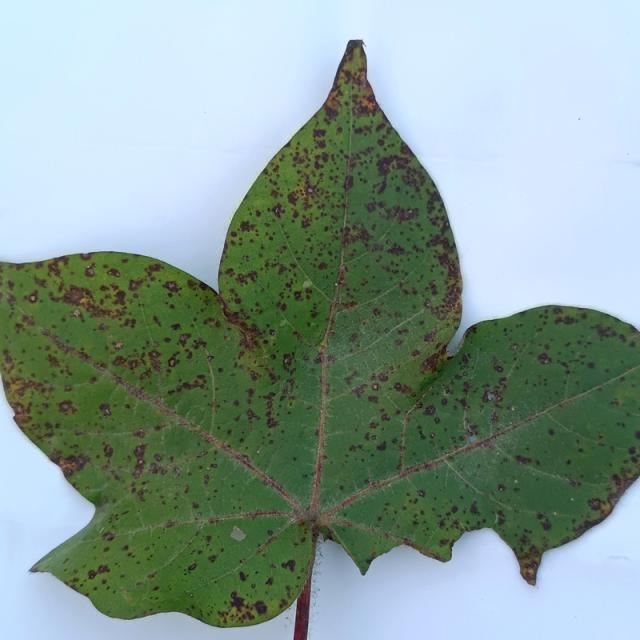Bacterial_Blight: (551, 471, 636, 560), (423, 220, 461, 319), (598, 465, 639, 519), (201, 331, 218, 423), (251, 524, 294, 556), (112, 348, 156, 377), (448, 323, 483, 354), (612, 377, 640, 411), (375, 153, 405, 182), (409, 541, 450, 562), (228, 509, 296, 521), (55, 454, 88, 477), (173, 375, 206, 394), (343, 224, 371, 246), (290, 183, 319, 204), (433, 340, 453, 370), (89, 498, 112, 524), (310, 508, 336, 530), (421, 350, 444, 374), (63, 286, 89, 306), (95, 399, 115, 420), (593, 324, 617, 340), (88, 563, 110, 580), (393, 207, 416, 223), (308, 519, 325, 540), (29, 561, 51, 577), (359, 93, 377, 111), (229, 592, 246, 611), (552, 313, 578, 325), (318, 524, 335, 542), (345, 442, 366, 455), (236, 430, 251, 448), (392, 382, 412, 395), (230, 525, 246, 541), (112, 289, 127, 306), (386, 244, 406, 256), (346, 39, 366, 51), (482, 389, 499, 403), (148, 462, 166, 475), (351, 383, 367, 397), (162, 280, 179, 293), (253, 600, 267, 615), (58, 400, 74, 413), (599, 501, 612, 517), (282, 353, 294, 370), (246, 408, 260, 422), (133, 444, 146, 459), (239, 220, 254, 233), (24, 290, 39, 303), (523, 566, 536, 581), (287, 191, 299, 207), (514, 454, 531, 465), (13, 412, 30, 423), (281, 559, 295, 572), (588, 498, 602, 511), (188, 499, 203, 511), (335, 480, 347, 495), (86, 373, 101, 385), (538, 352, 553, 364), (494, 512, 506, 526), (362, 556, 374, 570), (343, 175, 354, 190), (178, 333, 190, 346), (103, 444, 114, 458), (469, 501, 480, 515), (121, 589, 132, 603), (540, 519, 552, 531), (133, 428, 146, 439), (266, 417, 279, 428), (315, 544, 324, 559), (149, 350, 160, 362), (424, 405, 436, 416), (300, 217, 311, 229), (364, 431, 377, 441), (107, 268, 121, 277), (240, 452, 251, 463), (102, 532, 115, 541), (376, 441, 387, 451), (293, 290, 303, 301), (283, 619, 292, 630), (170, 323, 182, 331), (28, 566, 40, 574), (238, 571, 247, 581), (627, 446, 637, 455), (88, 569, 97, 579), (80, 252, 91, 260), (209, 460, 218, 469), (498, 483, 507, 492), (154, 453, 163, 462), (313, 355, 322, 364), (13, 405, 22, 414), (114, 341, 123, 350), (469, 435, 478, 444), (187, 563, 197, 571), (168, 302, 176, 311), (265, 577, 273, 586), (587, 361, 596, 369), (443, 388, 452, 396), (339, 263, 346, 273), (417, 489, 425, 497), (370, 421, 378, 429), (548, 428, 556, 436), (510, 343, 518, 351), (327, 355, 335, 363), (86, 268, 94, 276), (364, 477, 372, 485), (73, 309, 81, 317), (303, 280, 311, 288), (274, 206, 281, 215), (280, 319, 289, 326), (360, 78, 367, 87), (269, 329, 276, 336), (425, 299, 431, 306), (309, 321, 316, 327), (372, 384, 378, 390), (430, 432, 435, 438), (243, 255, 248, 261), (307, 188, 313, 193), (343, 89, 348, 95), (206, 466, 211, 471), (189, 593, 193, 598), (409, 209, 413, 214), (445, 222, 449, 227), (200, 577, 204, 581), (514, 479, 518, 483), (511, 406, 515, 410), (256, 450, 260, 454), (553, 511, 557, 515), (570, 498, 574, 501), (335, 282, 338, 286), (578, 118, 581, 121)
Cotton: (0, 41, 639, 626)
